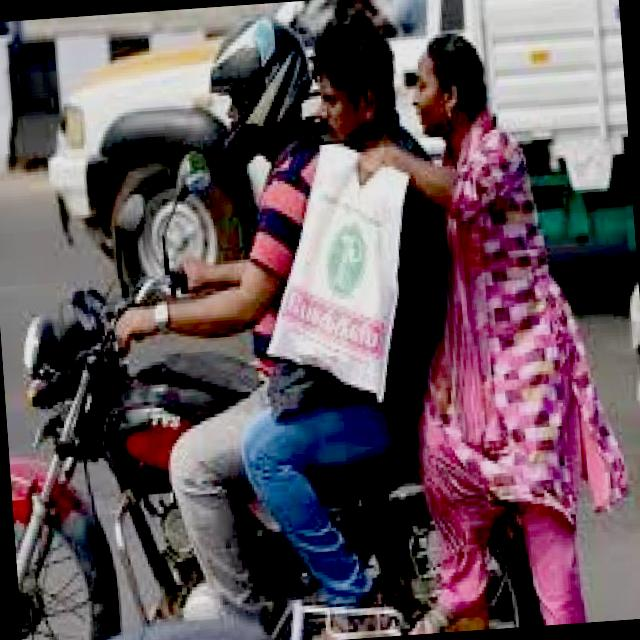motorcycle: (0, 242, 629, 640)
person: (183, 2, 404, 481), (402, 16, 586, 462), (286, 0, 454, 407)
rider_region: (0, 0, 589, 640)
